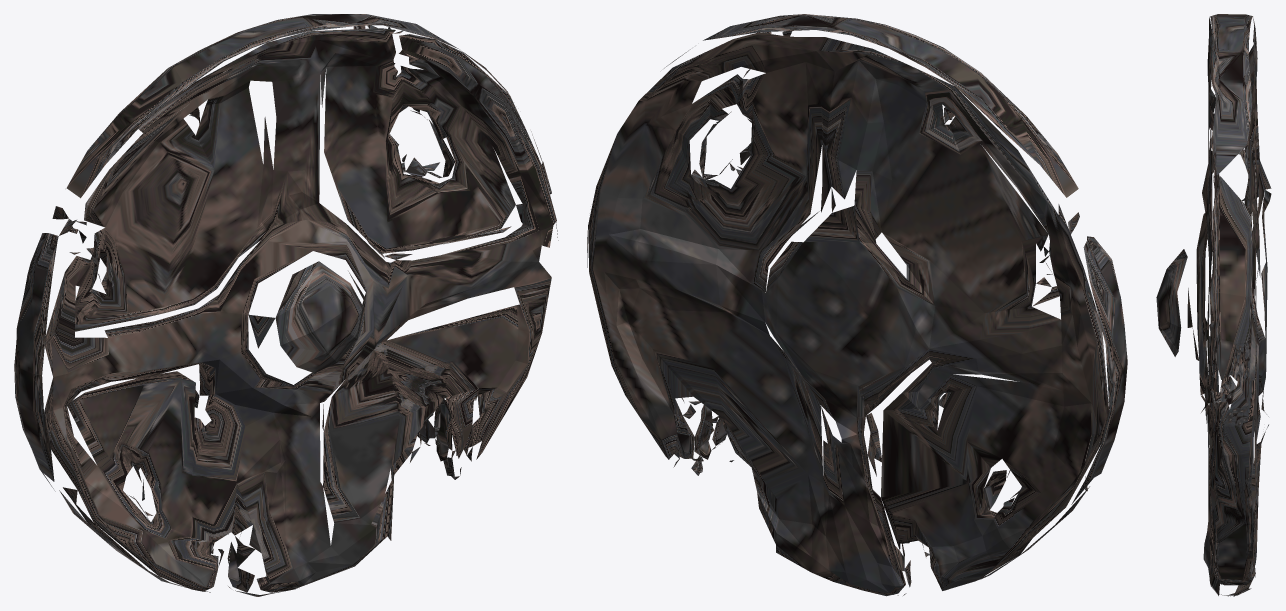
File: round-shield-pixelated.glb
3 views of the same model, side by side, from view 1: azimuth 30°, elevation 25°; view 2: azimuth 150°, elevation 25°; view 3: azimuth 270°, elevation 25° (orthographic). The views are drawn at different scales.
Visible parts, largest first — view 1: mesh; view 2: mesh; view 3: mesh.
Boxes of the visible parts, left/top/right/bottom form: mesh: left=14, top=14, right=558, bottom=596; mesh: left=587, top=14, right=1127, bottom=596; mesh: left=1156, top=14, right=1271, bottom=596.
Bounding box in the file's own units: 1.99 × 2 × 0.3925.
1 material, 1 textured.
